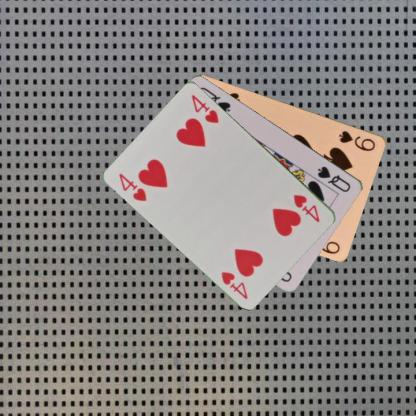4h: (116, 170, 149, 203), (291, 192, 321, 224)
9s: (336, 128, 378, 152)
Qs: (314, 162, 352, 193)
